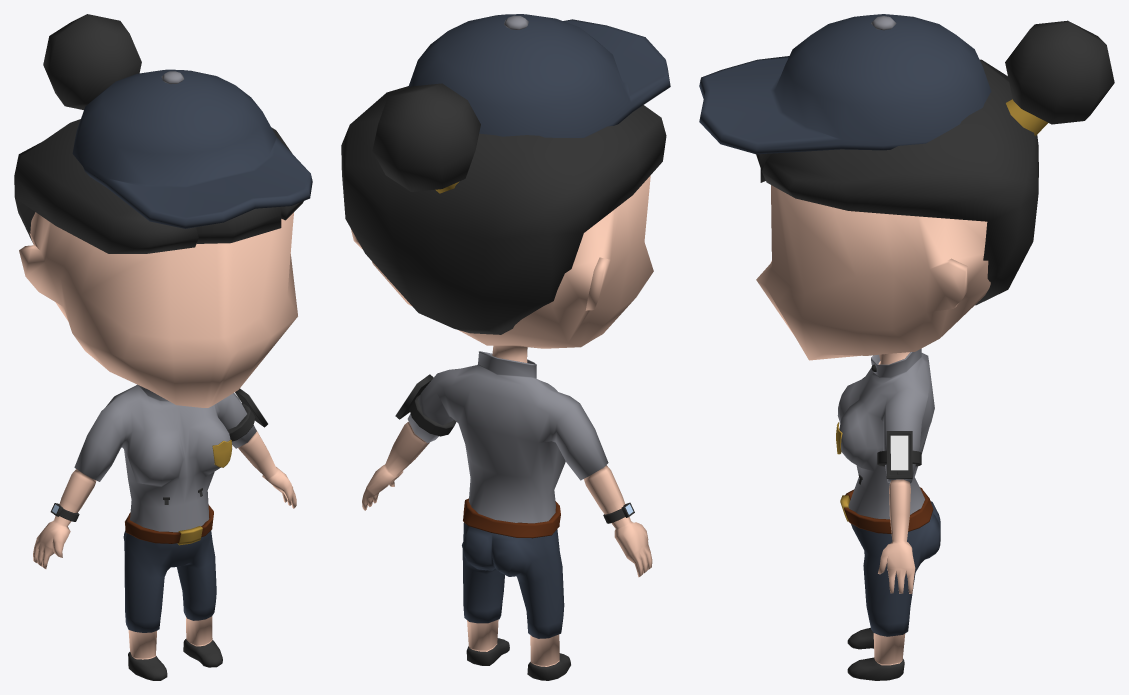
The model's file is Officer_Wen_Blockout v4.fbx.
3 views of the same model, side by side, from view 1: azimuth 30°, elevation 25°; view 2: azimuth 150°, elevation 25°; view 3: azimuth 270°, elevation 25° (orthographic). The views are drawn at different scales.
Parts seen in each view (by area): view 1: Officer.Wen.hair.001, Accessories.002; view 2: Officer.Wen.hair.001, Accessories.002; view 3: Officer.Wen.hair.001, Accessories.002.
Boxes of the visible parts, box(x1,y1,x2,y2) form: Officer.Wen.hair.001: box(14, 14, 303, 680); Accessories.002: box(50, 69, 312, 545); Officer.Wen.hair.001: box(341, 83, 666, 680); Accessories.002: box(395, 14, 670, 538); Officer.Wen.hair.001: box(756, 20, 1114, 680); Accessories.002: box(699, 14, 991, 533).
Size of the model in its own units: 287 by 639 by 375.
